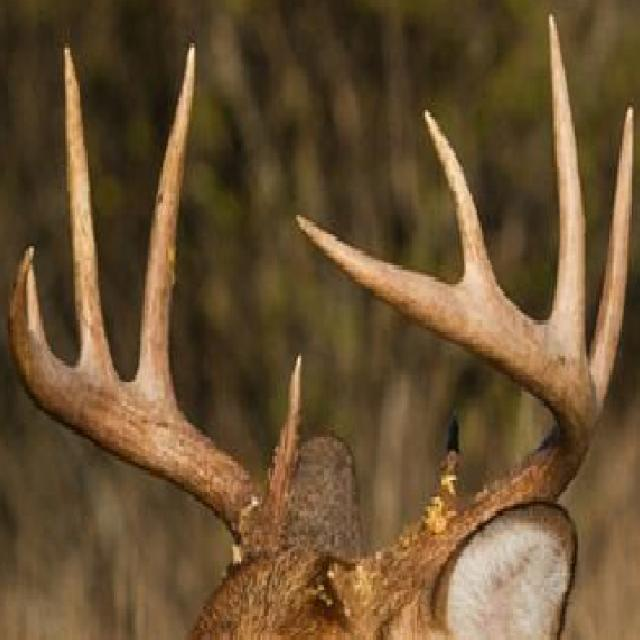L-F: (294, 212, 601, 640)
L-G1: (427, 417, 468, 506)
L-G2: (588, 100, 634, 418)
L-G3: (545, 11, 588, 348)
L-G4: (422, 108, 503, 290)
R-F: (7, 242, 264, 544)
R-G1: (264, 348, 303, 516)
R-G2: (133, 37, 197, 407)
R-G3: (62, 40, 119, 374)
